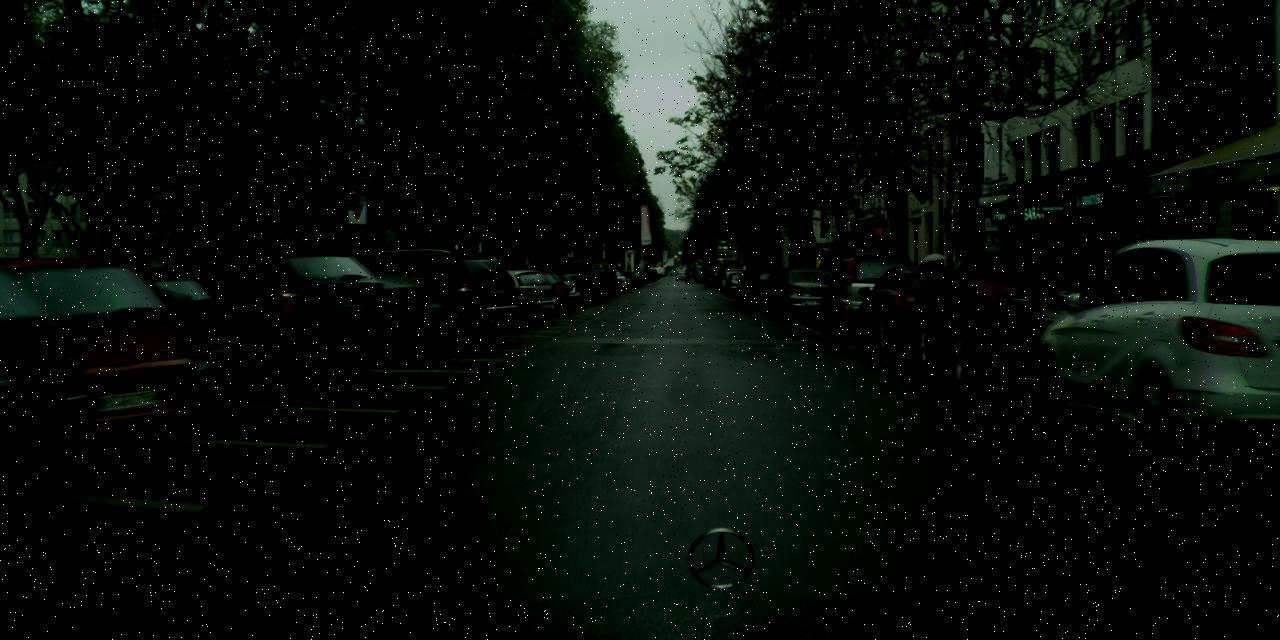ped: (928, 260, 942, 297), (684, 269, 690, 284)
